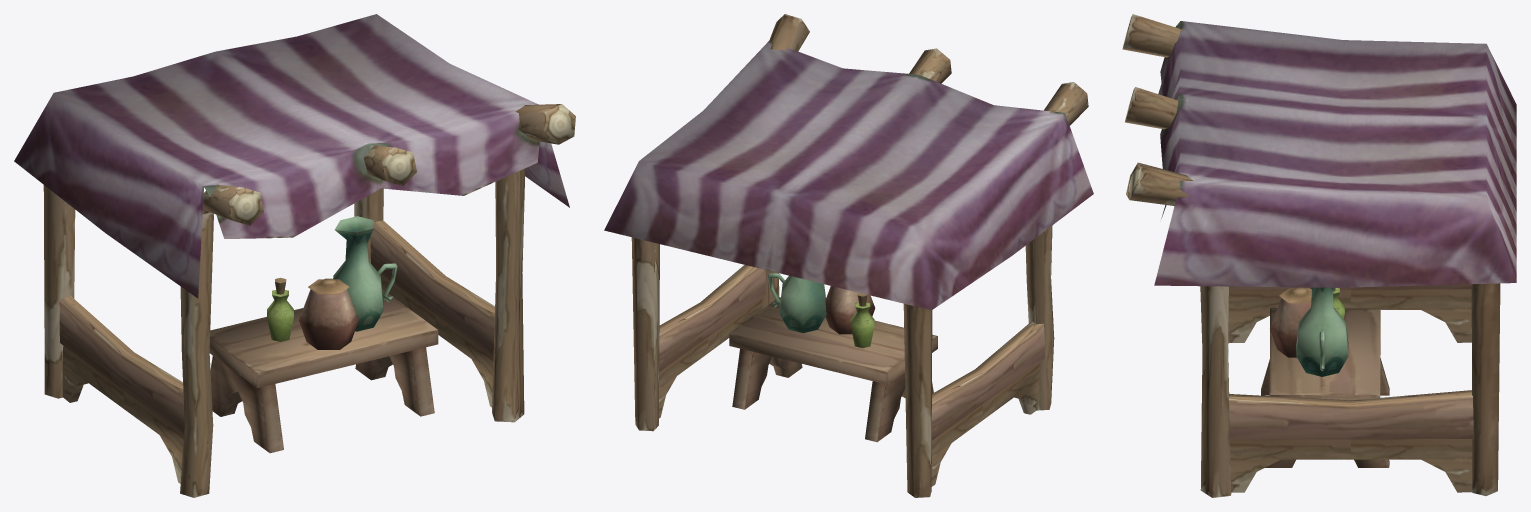
Rendered from Map_04_grocery01.FBX.
3 renders of one model, left to right at view 1: azimuth 30°, elevation 25°; view 2: azimuth 150°, elevation 25°; view 3: azimuth 270°, elevation 25°, orthographic. The views are drawn at different scales.
Visible parts, largest first — view 1: Map_04_grocery01; view 2: Map_04_grocery01; view 3: Map_04_grocery01.
Part boxes in pixels (x1,y1,x2,y2): Map_04_grocery01: [14, 14, 575, 497]; Map_04_grocery01: [604, 14, 1093, 497]; Map_04_grocery01: [1122, 14, 1516, 497].
Bounding box in the file's own units: 30.49 × 26.44 × 28.46.
